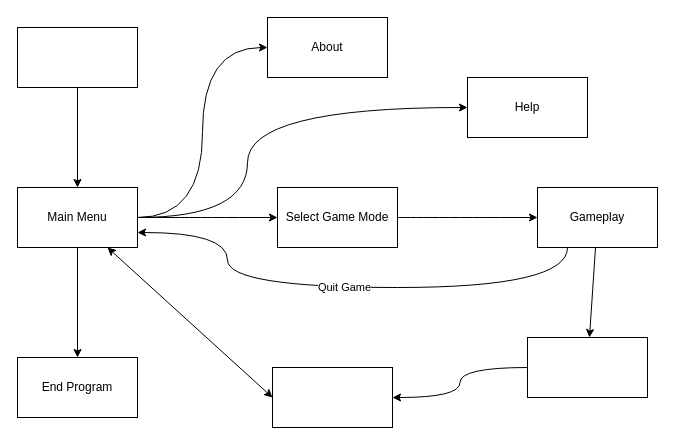
Image size: 675x445. Some labels were removed from this diagram. Each missing label, with the centre of its shape:
New Highscore: the point at 587,367
Scoreboard: the point at 332,397
Start Program: the point at 77,57
